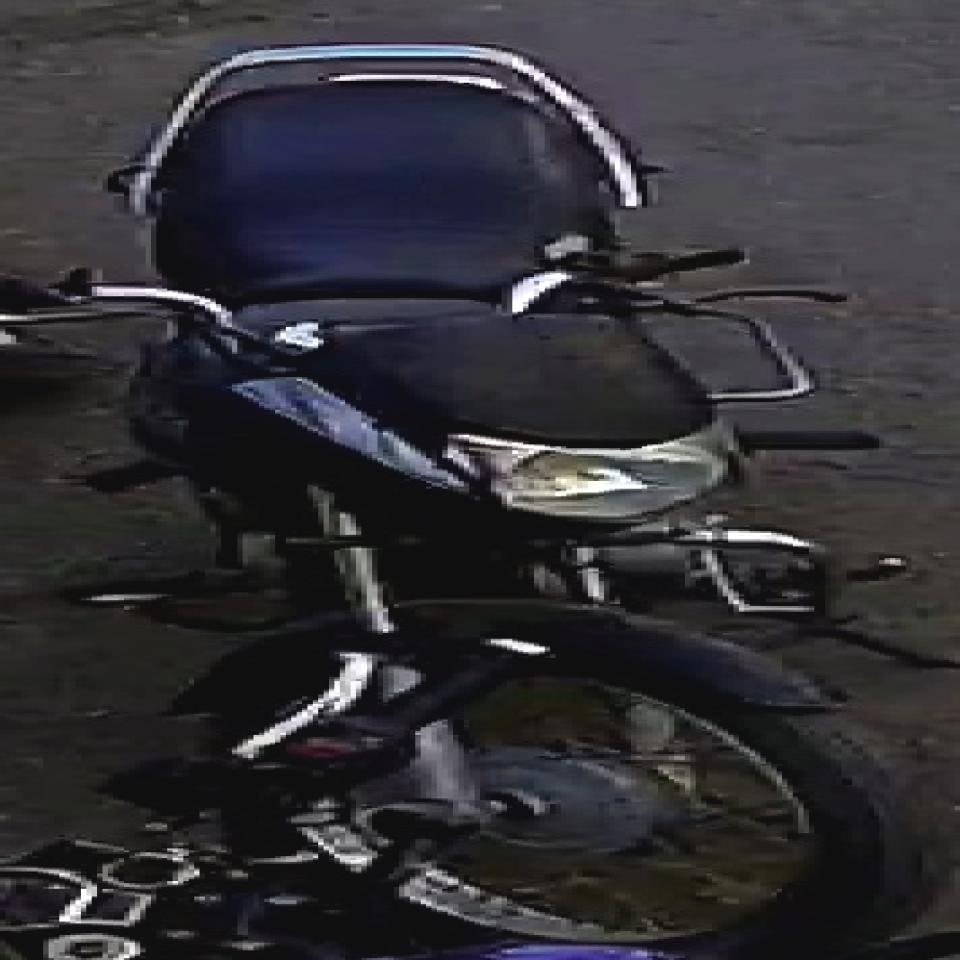head_light: (493, 440, 733, 521)
